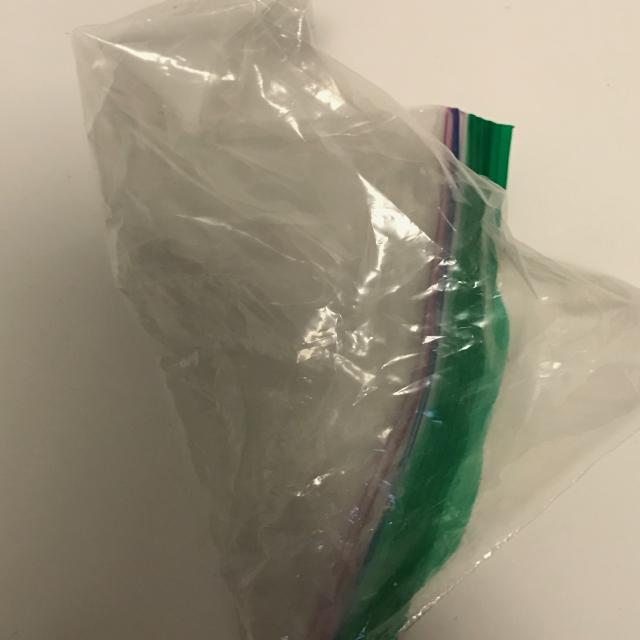plastic: (51, 0, 640, 640)
